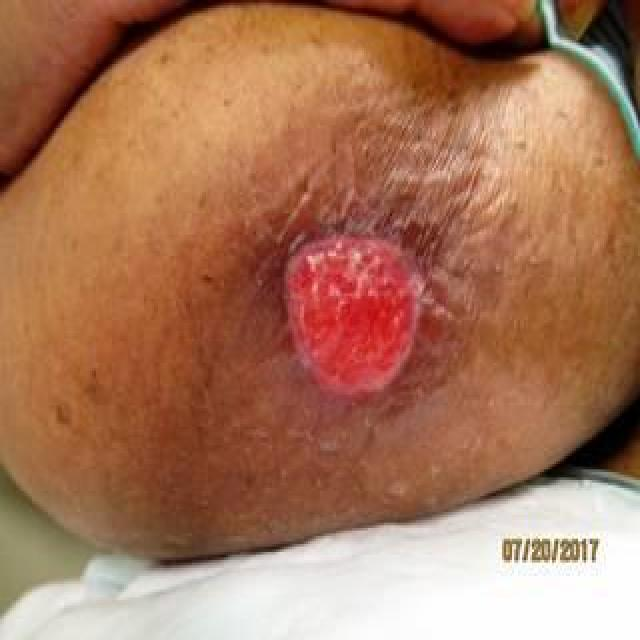stage-3: (286, 235, 418, 392)
